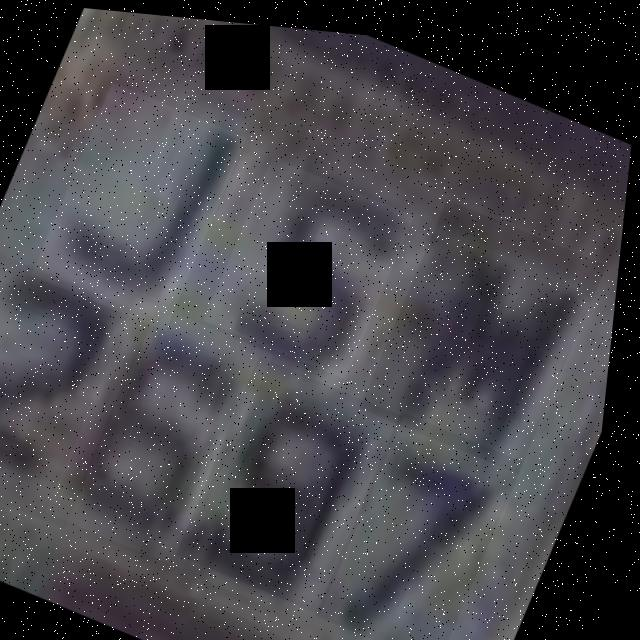2: (0, 248, 164, 531)
6: (52, 288, 283, 569)
7: (324, 398, 535, 640)
9: (183, 346, 415, 611)
J: (33, 75, 252, 331)
N: (363, 185, 614, 467)
S: (206, 147, 421, 375)
